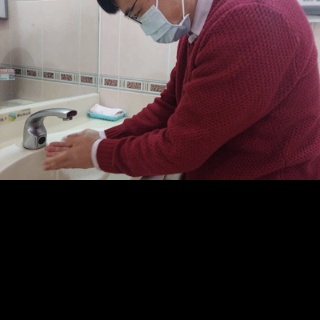with_mask: (120, 0, 193, 45)
